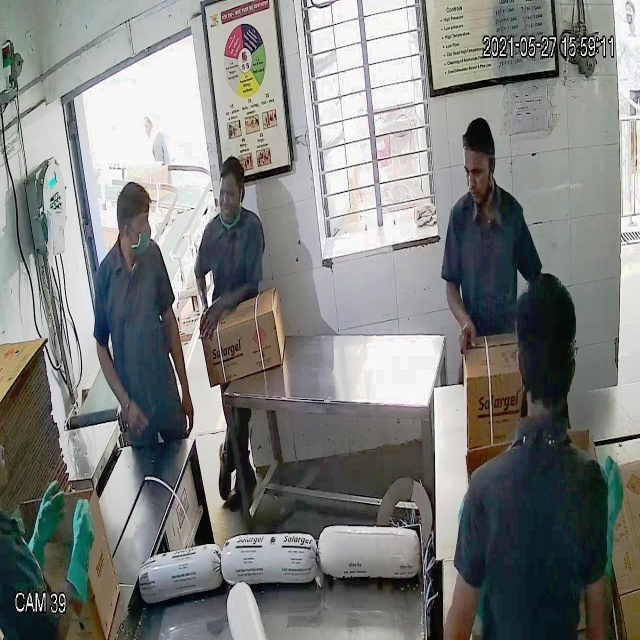Sin_gafas: (457, 154, 497, 187)
